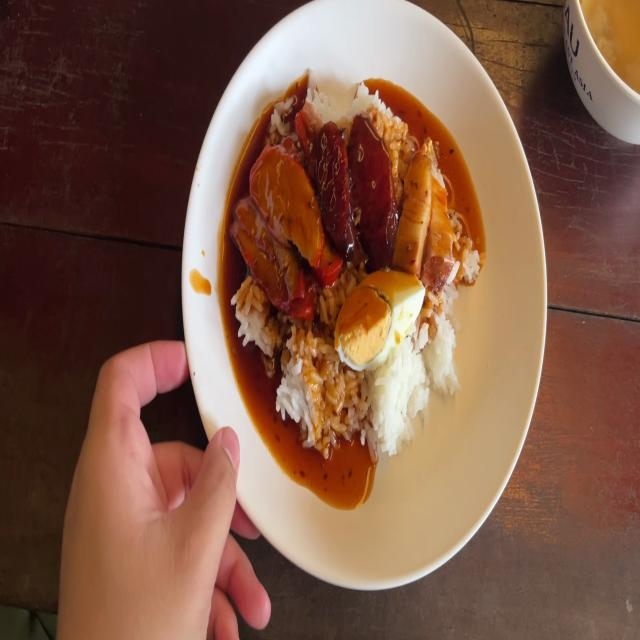red_pork_and_crispy_pork: (332, 268, 422, 373)
stir_fried_basil: (315, 121, 397, 264), (353, 114, 394, 265), (315, 122, 355, 250)
